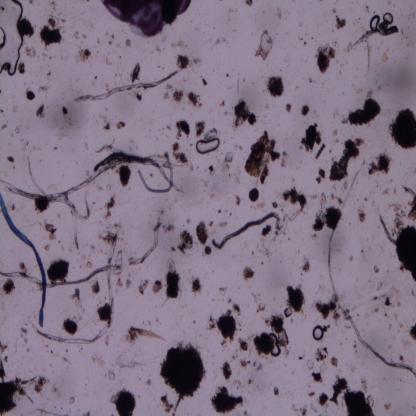Air bubble: (0, 0, 22, 77), (196, 137, 220, 155), (268, 333, 281, 358), (369, 13, 381, 31), (312, 325, 322, 340), (384, 12, 394, 24)
Background material: (0, 148, 178, 202), (156, 341, 204, 414), (0, 361, 47, 413), (246, 132, 282, 186), (332, 372, 376, 416), (328, 137, 364, 181), (340, 91, 380, 127), (394, 219, 416, 282), (386, 108, 416, 151), (210, 382, 245, 415), (350, 23, 400, 46), (312, 195, 342, 231), (206, 309, 238, 342), (304, 346, 329, 382), (267, 312, 290, 349), (110, 385, 136, 415), (233, 97, 258, 128), (280, 186, 309, 212), (283, 285, 305, 319), (40, 13, 62, 47), (124, 324, 165, 342), (115, 351, 151, 371), (315, 44, 338, 74), (301, 121, 322, 152), (46, 255, 69, 282), (256, 29, 275, 61), (316, 297, 340, 322), (165, 260, 180, 300), (367, 152, 391, 176), (401, 186, 416, 222), (266, 74, 286, 99), (176, 229, 196, 254), (253, 237, 274, 260), (390, 200, 407, 228), (194, 218, 210, 247), (27, 405, 68, 416), (254, 332, 272, 357), (171, 141, 190, 164), (17, 15, 35, 39), (99, 227, 121, 244), (96, 302, 112, 325), (117, 164, 131, 190), (60, 317, 79, 336), (43, 218, 58, 242), (175, 118, 192, 139), (375, 294, 392, 313), (221, 360, 235, 383), (240, 359, 263, 372), (190, 273, 202, 297), (223, 149, 234, 175), (128, 62, 142, 82), (176, 52, 192, 69), (364, 40, 372, 74), (90, 350, 107, 366), (105, 196, 116, 220), (187, 90, 203, 106), (247, 186, 262, 203), (101, 48, 115, 66), (194, 119, 206, 139), (76, 47, 91, 63), (318, 390, 331, 408), (241, 265, 256, 280), (334, 14, 348, 30), (34, 200, 51, 213), (278, 148, 289, 168), (138, 278, 150, 296), (238, 335, 250, 353), (356, 205, 367, 224), (160, 395, 173, 411), (3, 278, 16, 294), (115, 278, 132, 290), (315, 142, 326, 160), (300, 256, 311, 274), (292, 403, 309, 414), (162, 221, 176, 234), (261, 223, 273, 238), (24, 43, 35, 59), (170, 38, 186, 49), (105, 221, 124, 230), (315, 167, 325, 184), (24, 88, 37, 101), (253, 198, 266, 211), (152, 280, 164, 294), (35, 104, 47, 118), (0, 342, 8, 362), (300, 104, 311, 118), (90, 280, 101, 294), (73, 287, 82, 304), (50, 379, 60, 394), (20, 136, 30, 151), (212, 36, 228, 45), (173, 90, 183, 104), (18, 261, 28, 275), (232, 302, 242, 316), (87, 242, 101, 252), (84, 256, 94, 270), (407, 325, 416, 340), (232, 170, 241, 185), (233, 191, 242, 206), (17, 59, 26, 74), (61, 354, 73, 365), (255, 301, 267, 312), (41, 50, 52, 62), (342, 180, 352, 193), (106, 368, 116, 381), (343, 41, 352, 55), (8, 202, 19, 213), (93, 182, 104, 193), (329, 136, 341, 146), (12, 94, 18, 114), (203, 244, 213, 256), (277, 4, 284, 21), (352, 336, 359, 352), (232, 348, 240, 362), (66, 395, 76, 406), (200, 75, 209, 87), (251, 290, 260, 302), (354, 86, 367, 94), (134, 91, 144, 101), (116, 120, 126, 130), (47, 0, 56, 11), (407, 9, 416, 20), (207, 163, 216, 174), (236, 72, 240, 96), (332, 108, 340, 120), (124, 37, 132, 49), (38, 84, 50, 92), (202, 177, 209, 190), (6, 154, 15, 164), (390, 285, 399, 295), (47, 182, 57, 191), (218, 98, 228, 107), (330, 355, 338, 366), (272, 385, 279, 397), (321, 324, 330, 333), (219, 287, 228, 296), (146, 377, 154, 387), (61, 106, 69, 116), (218, 220, 228, 228), (284, 347, 292, 357), (382, 186, 390, 196), (104, 334, 110, 346), (103, 80, 109, 92), (82, 139, 88, 151), (292, 84, 301, 92), (162, 92, 171, 100), (104, 121, 111, 131), (373, 263, 380, 273), (234, 143, 244, 150), (385, 402, 393, 410), (72, 31, 80, 39), (308, 74, 315, 83), (285, 104, 292, 113), (382, 53, 388, 63), (14, 124, 20, 134), (364, 4, 370, 14), (271, 200, 278, 208), (243, 408, 250, 416), (0, 122, 8, 129), (106, 183, 113, 191), (207, 220, 214, 228), (246, 0, 254, 7), (155, 46, 162, 54), (351, 364, 357, 373), (188, 163, 194, 172), (367, 90, 373, 99), (312, 403, 317, 413), (308, 390, 315, 397), (208, 191, 214, 199), (186, 216, 192, 224), (398, 322, 404, 330), (23, 336, 29, 344), (146, 318, 152, 326), (44, 244, 50, 252), (400, 27, 405, 36), (297, 20, 304, 26), (1, 5, 7, 12), (194, 59, 201, 65), (384, 313, 390, 320), (375, 84, 381, 91), (238, 322, 242, 332), (67, 118, 72, 126), (117, 41, 122, 49), (22, 328, 27, 336), (84, 411, 92, 416), (378, 280, 382, 290), (333, 128, 338, 136), (332, 8, 338, 14), (363, 196, 369, 202), (46, 72, 52, 78), (167, 125, 173, 131), (264, 103, 270, 109), (412, 288, 416, 297), (171, 246, 176, 253), (166, 83, 171, 90), (349, 255, 354, 262), (411, 42, 416, 49), (105, 30, 109, 38), (297, 36, 303, 41), (345, 323, 351, 328), (35, 0, 40, 6), (96, 37, 100, 44), (62, 17, 66, 24), (334, 183, 337, 192), (396, 302, 401, 307), (303, 40, 307, 46), (242, 78, 246, 84), (46, 343, 50, 349), (64, 348, 68, 354), (392, 189, 396, 195), (226, 73, 230, 79), (372, 201, 376, 207), (251, 250, 254, 257), (86, 170, 89, 177), (400, 356, 404, 361), (93, 76, 98, 80), (26, 348, 30, 353), (390, 178, 394, 183), (338, 70, 342, 75), (111, 34, 116, 38), (50, 349, 54, 354), (82, 34, 87, 38), (218, 209, 222, 214), (0, 108, 4, 113), (28, 0, 33, 4), (130, 139, 136, 142), (357, 312, 360, 318), (109, 40, 112, 46), (53, 147, 56, 153), (249, 379, 252, 385), (193, 319, 196, 325), (360, 250, 364, 254), (388, 346, 392, 350), (334, 41, 338, 45), (93, 200, 97, 204), (229, 212, 232, 217), (393, 336, 396, 341), (406, 42, 409, 47), (34, 23, 36, 30), (190, 143, 194, 146), (156, 316, 158, 322), (390, 325, 392, 330), (0, 89, 2, 94), (332, 29, 334, 33), (374, 10, 376, 14), (264, 116, 267, 118), (311, 38, 314, 40), (262, 264, 264, 266), (120, 55, 121, 58)
Cellulose filter fibre: (327, 159, 416, 377), (30, 235, 118, 345), (25, 156, 80, 248), (75, 69, 179, 102), (211, 211, 290, 253), (0, 262, 117, 289), (128, 210, 166, 267), (379, 217, 398, 247)
Cotton: (0, 194, 46, 328)
Microfibre: (138, 152, 174, 193)
Pen: (100, 0, 192, 37)
